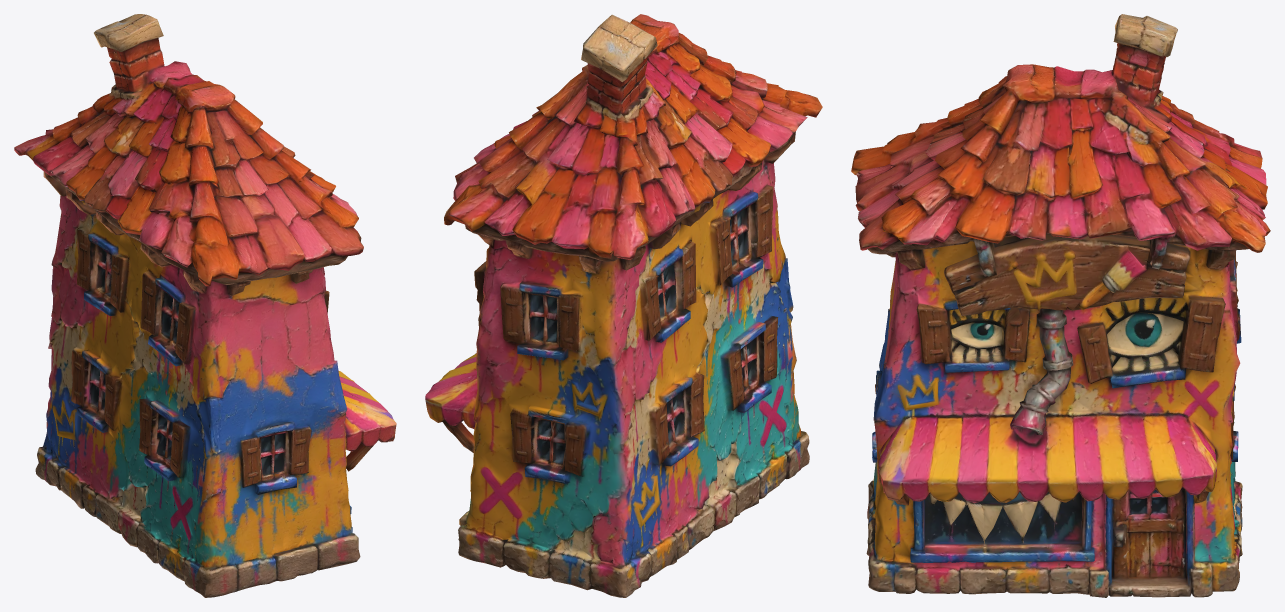
The model's file is house_shop.glb.
The picture shows the model from 3 angles, left to right: view 1: azimuth 30°, elevation 25°; view 2: azimuth 150°, elevation 25°; view 3: azimuth 270°, elevation 25°; orthographic projection. The views are drawn at different scales.
Visible parts, largest first — view 1: house_shop; view 2: house_shop; view 3: house_shop.
Boxes of the visible parts, <box> form: house_shop: <box>14,14,396,597</box>; house_shop: <box>425,14,822,597</box>; house_shop: <box>851,14,1270,597</box>.
Size of the model in its own units: 3.95 by 8 by 5.84.
Materials: 1 (1 with a texture image).
